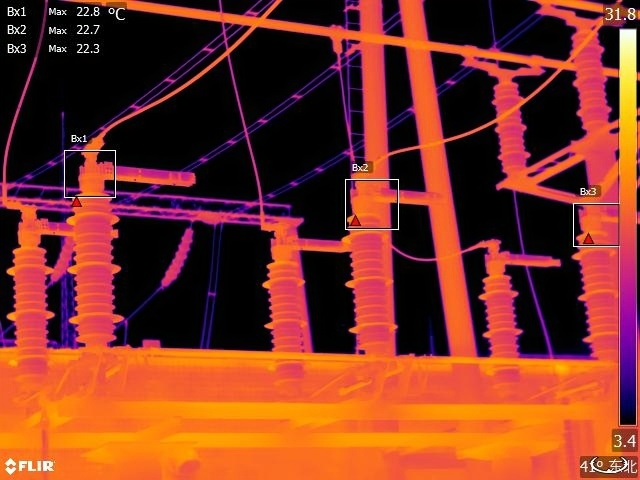clamp: (324, 19, 349, 63)
insulator: (155, 219, 196, 290), (53, 228, 74, 286)
post insulator: (67, 204, 124, 352), (344, 207, 400, 351), (4, 239, 56, 382), (259, 257, 310, 383), (576, 228, 618, 368), (480, 272, 526, 395), (566, 21, 619, 123), (493, 79, 541, 181)
switch: (68, 153, 202, 200), (351, 171, 456, 217), (478, 235, 562, 273), (263, 230, 350, 261), (10, 212, 73, 240)
